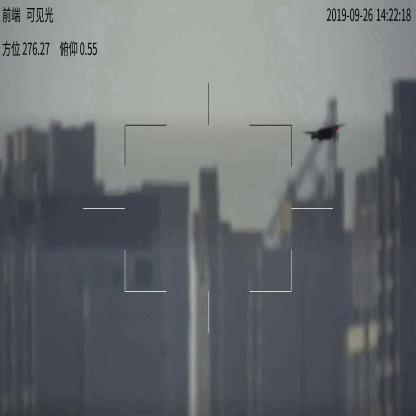uav: (302, 123, 346, 144)
